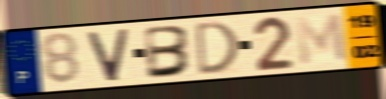2: (252, 14, 298, 73)
8: (39, 31, 86, 88)
B: (144, 24, 194, 81)
D: (193, 19, 241, 78)
M: (293, 11, 351, 67)
V: (85, 26, 132, 84)
